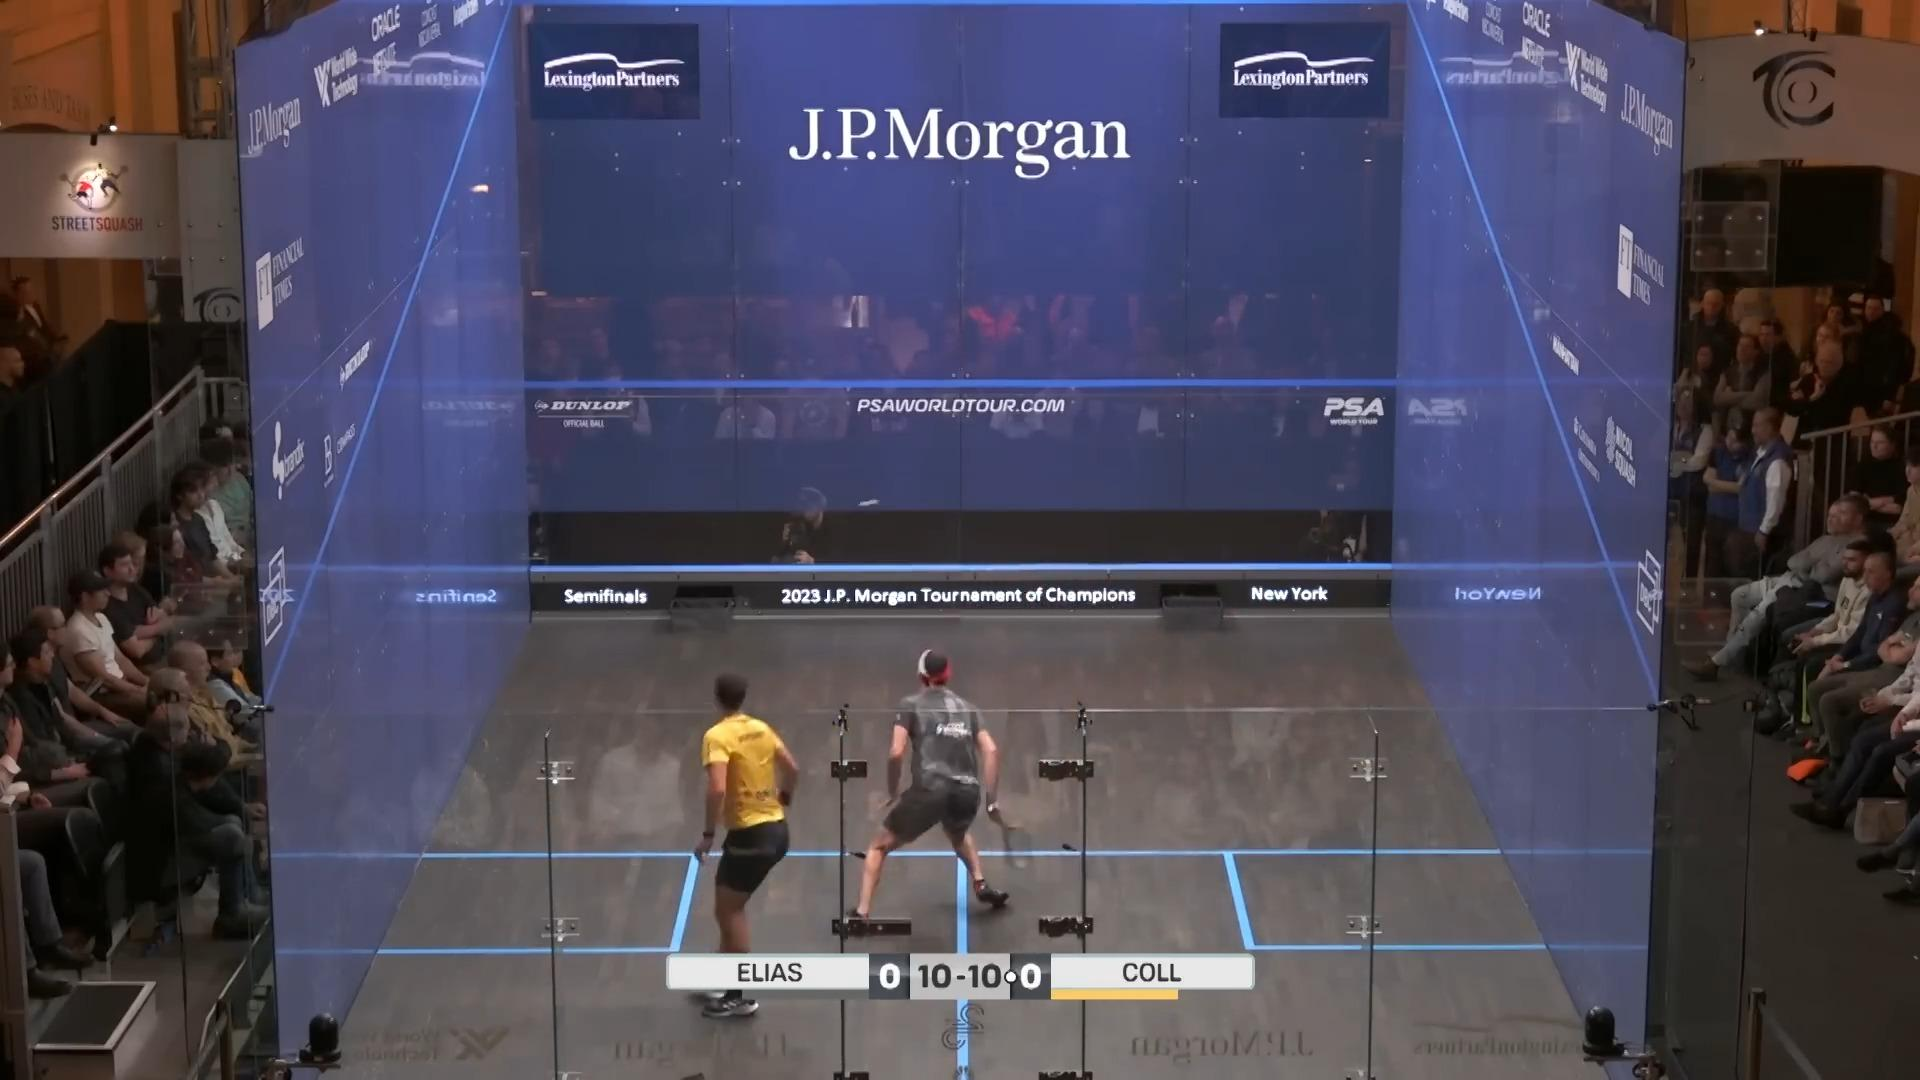Racket: (990, 800, 1044, 877)
